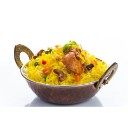briyani: (30, 42, 101, 82)
